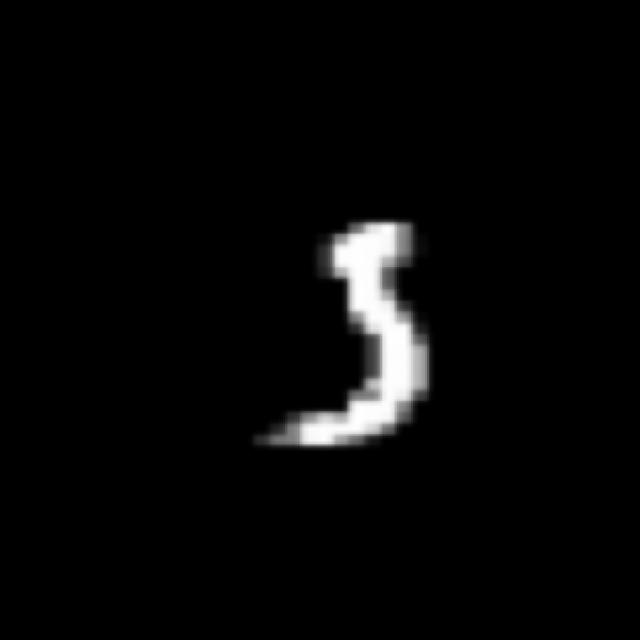five -5-: (256, 207, 447, 458)
